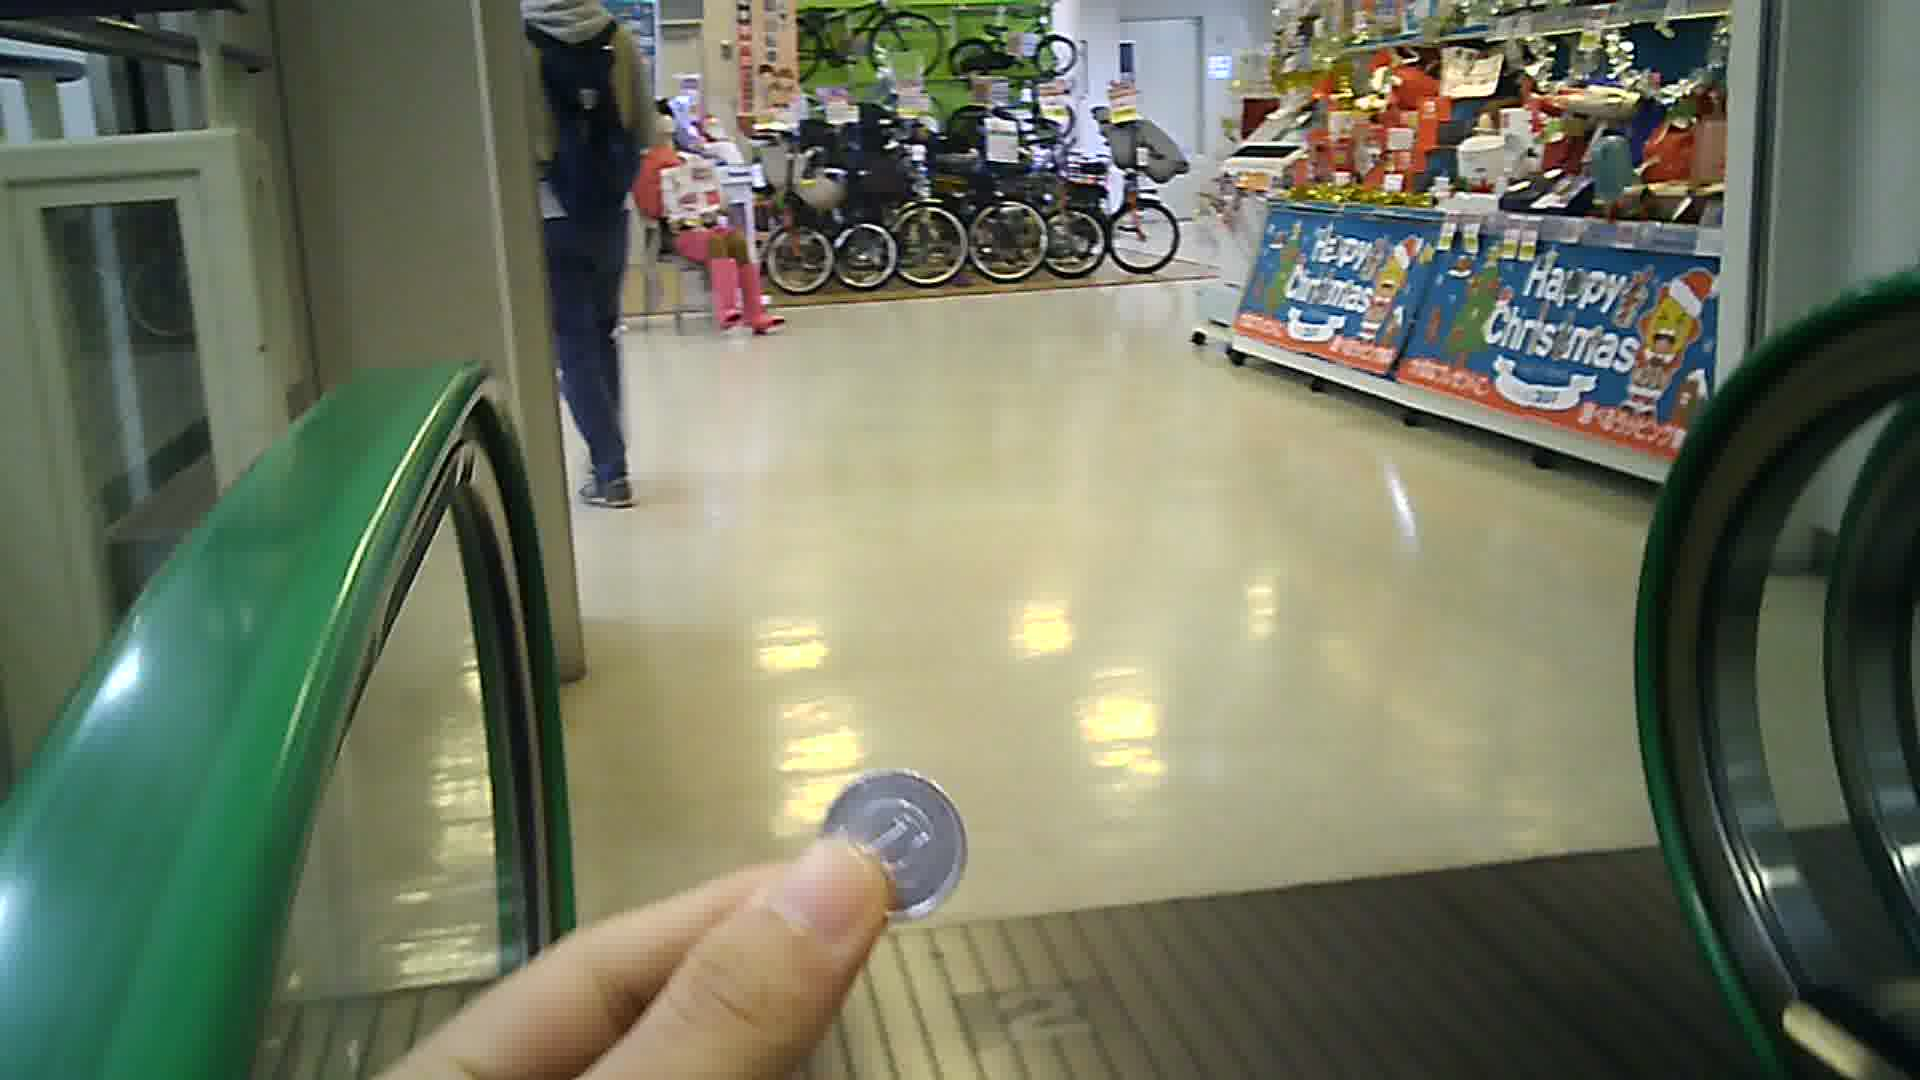1 Yen: (811, 760, 964, 913)
